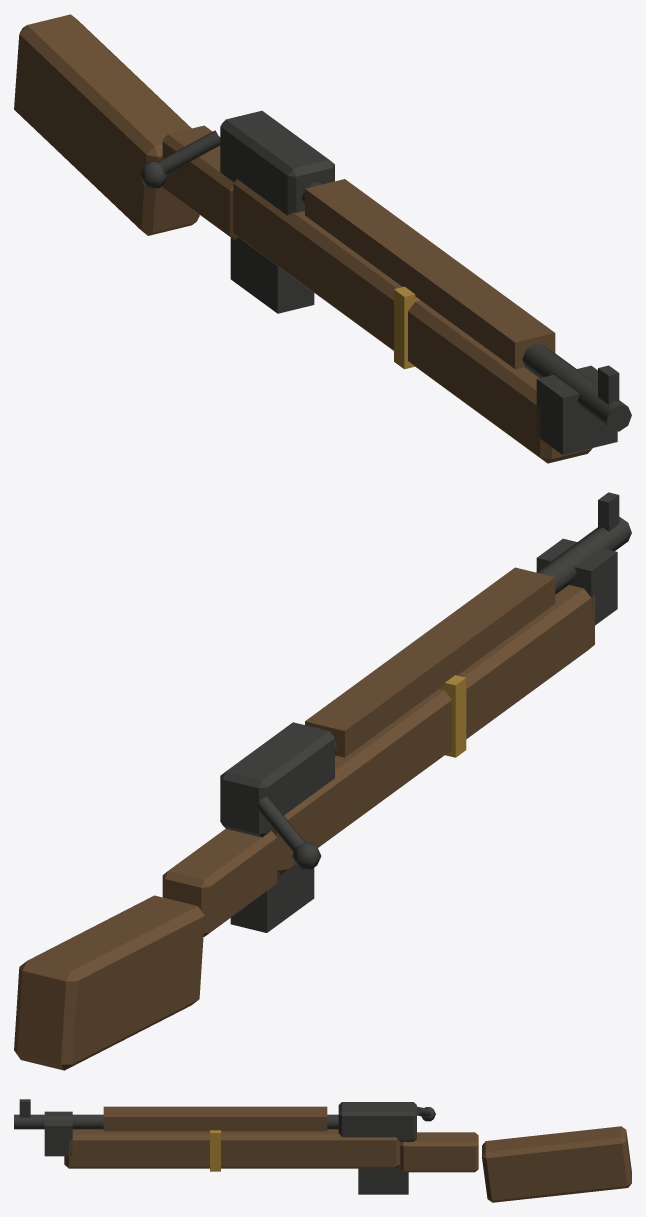
The model's file is rifle_mouse.glb.
The picture shows the model from 3 angles, top to bottom: view 1: azimuth 30°, elevation 25°; view 2: azimuth 150°, elevation 25°; view 3: azimuth 270°, elevation 25°; orthographic projection. The views are drawn at different scales.
Visible parts, largest first — view 1: weapon; view 2: weapon; view 3: weapon.
Boxes of the visible parts, <box> form: weapon: <box>14,14,631,463</box>; weapon: <box>14,492,631,1070</box>; weapon: <box>14,1099,631,1202</box>.
Size of the model in its own units: 0.0651 by 0.0951 by 0.552.
